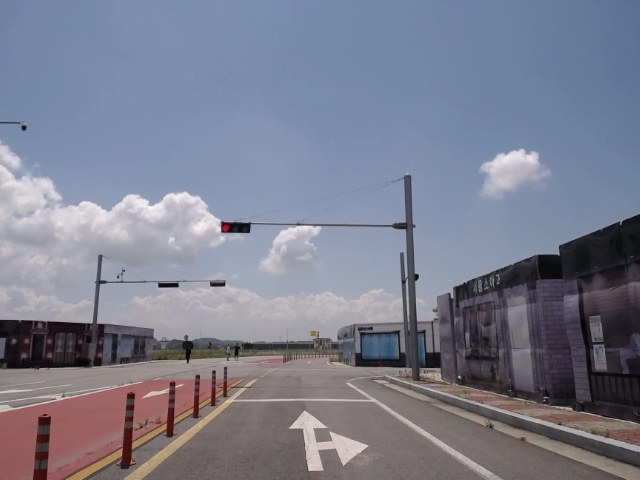red_3: (219, 220, 251, 234)
